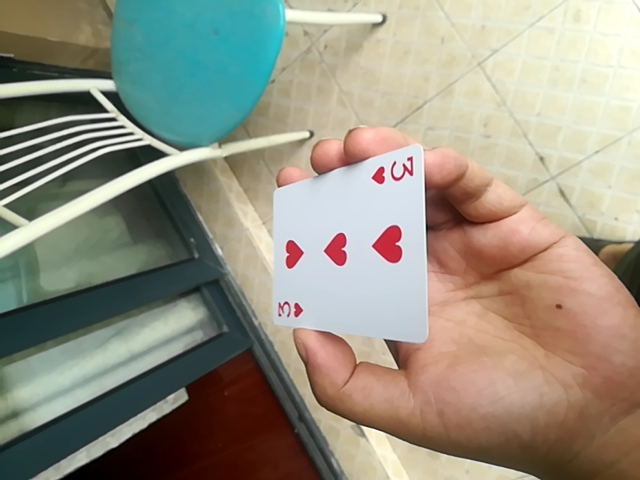hx 3: (262, 139, 424, 346)
